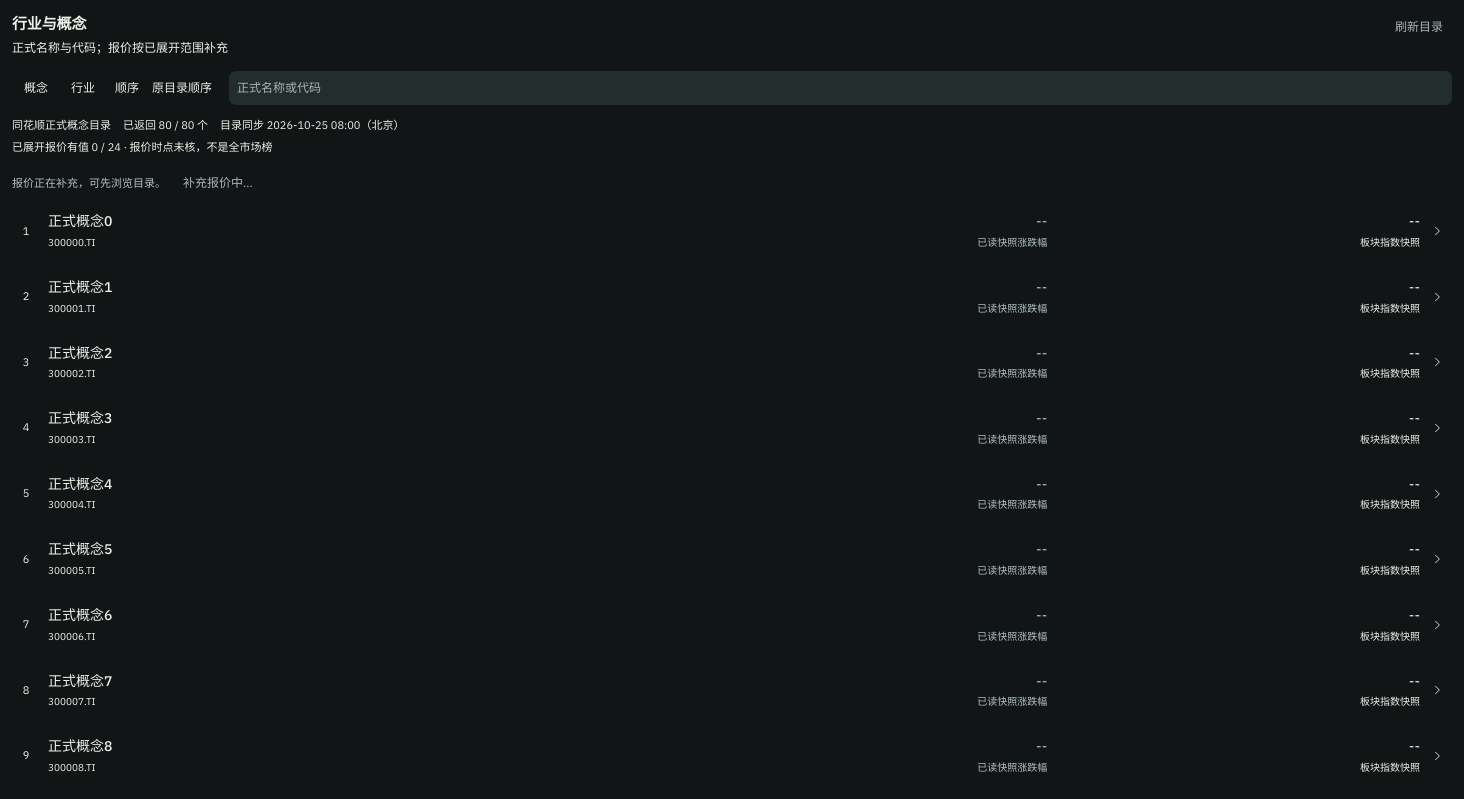
it: 官方目录与可选报价独立读取 › 报价慢仍立即显示名称和代码并可下钻，原日期/名单不变，不等待额外行情
Expected: the text "报价正在补充，可先浏览目录。" is shown, [12,175,166,192]
Click the button with aria-label "查看正式概念0成分".
click(80, 221)  # box [12,208,1452,254]
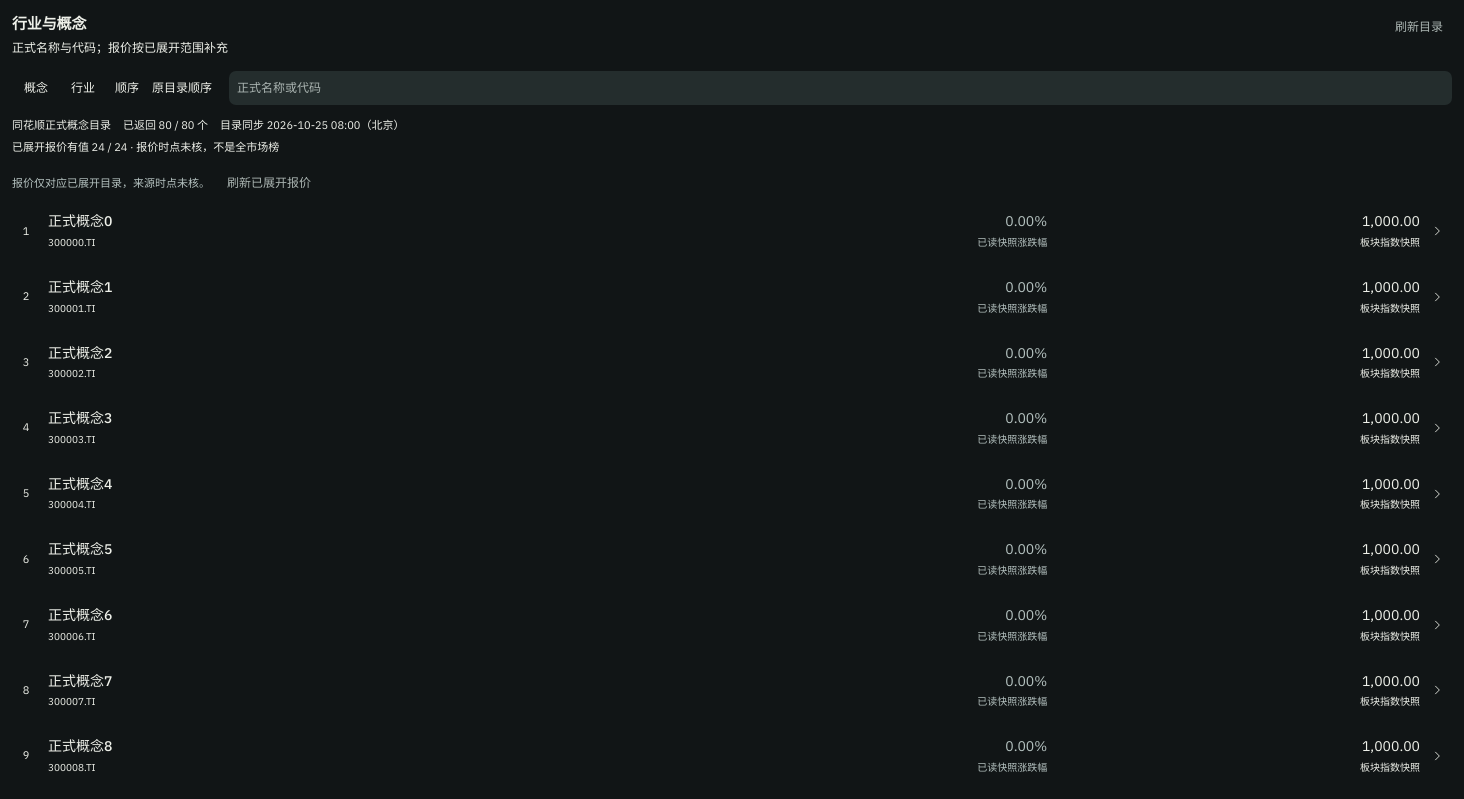
Expected: the 1st text "0.00%" is shown, [1005,212,1047,230]
Expected: the text "已展开报价有值 24 / 24 · 报价时点未核，不是全市场榜" is shown, [12,140,279,154]
